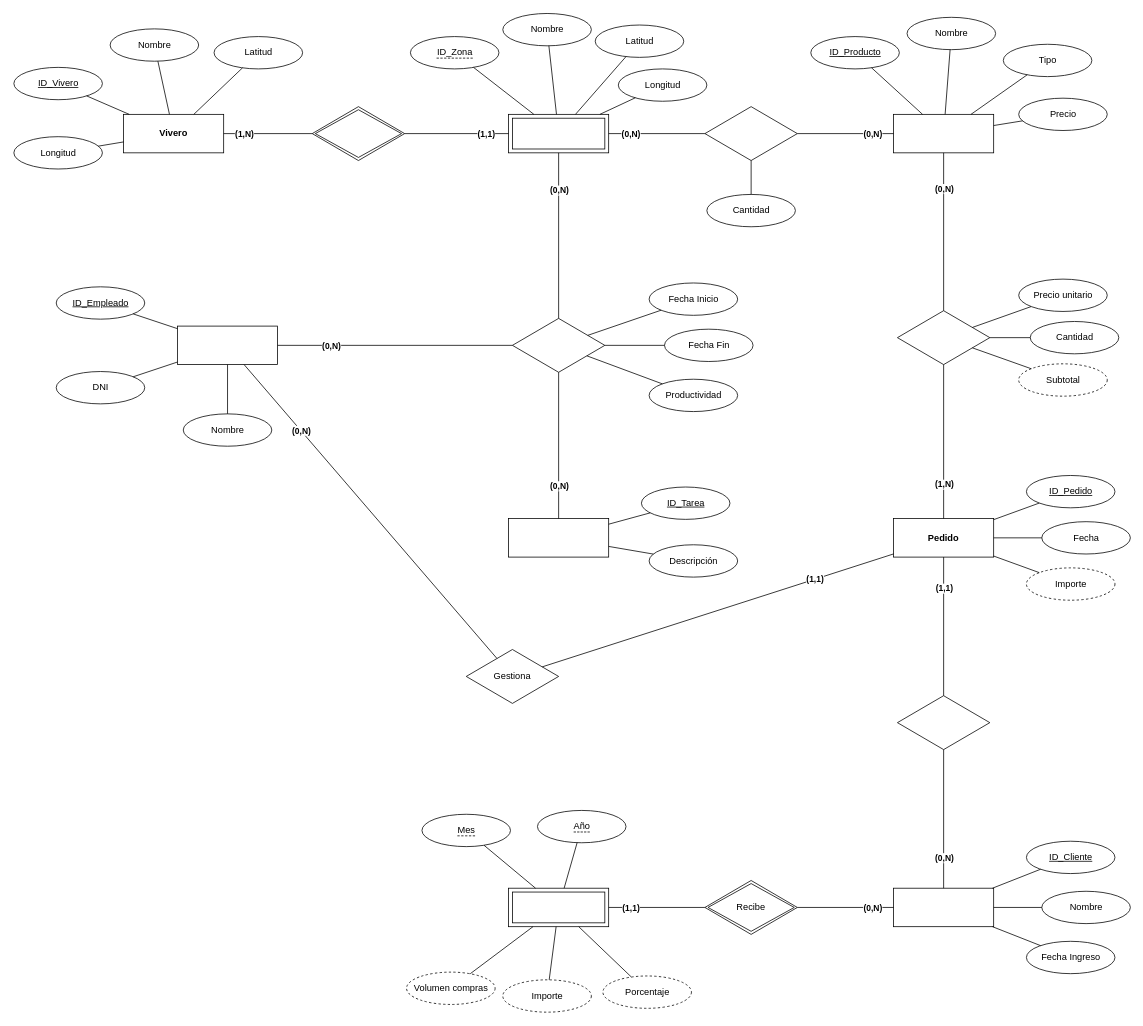
This 1143x1026 diagram has some shape labels left out. The shapes that lost their labels are listed below. From the top down, each one's centre as x and y in pixels, then its label:
At (x=358, y=133): "Tiene".
At (x=558, y=133): "Zona".
At (x=750, y=133): "Stock".
At (x=943, y=133): "Producto".
At (x=227, y=345): "Empleado".
At (x=558, y=345): "Desempeña".
At (x=943, y=337): "Contiene".
At (x=558, y=537): "Tarea / Puesto".
At (x=943, y=722): "Realiza".
At (x=558, y=907): "Bonificación".
At (x=943, y=907): "Cliente (Tajinaste Plus)".
